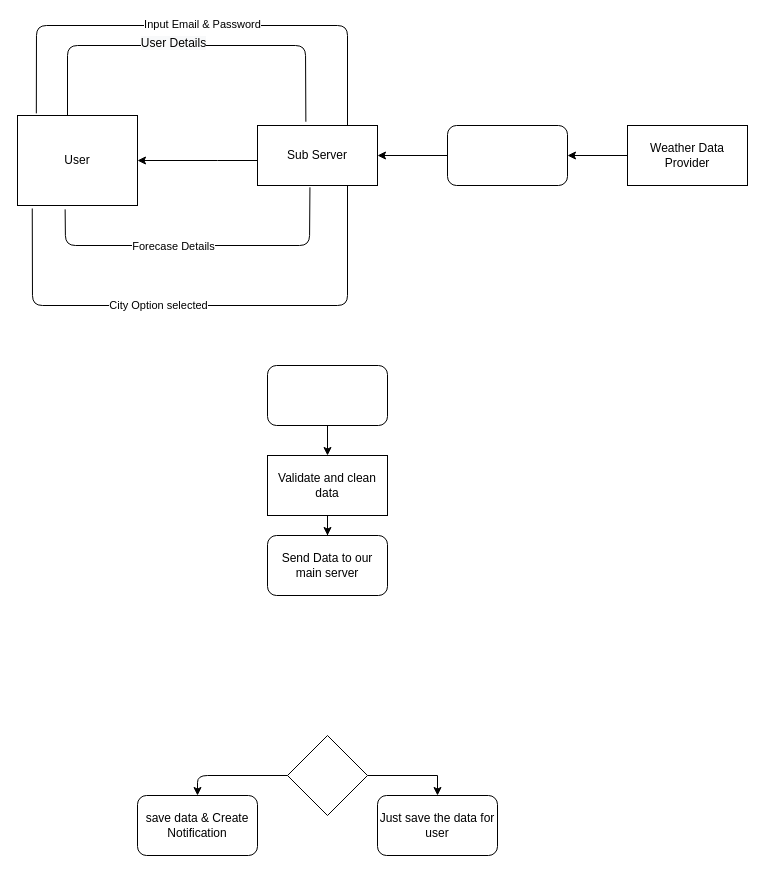
This 765x873 diagram has some shape labels left out. Each missing label, with the centre of its shape:
"Above set value" belongs at [327,775].
"Central Server" belongs at [507,155].
"Collect data from sensors" belongs at [327,395].
